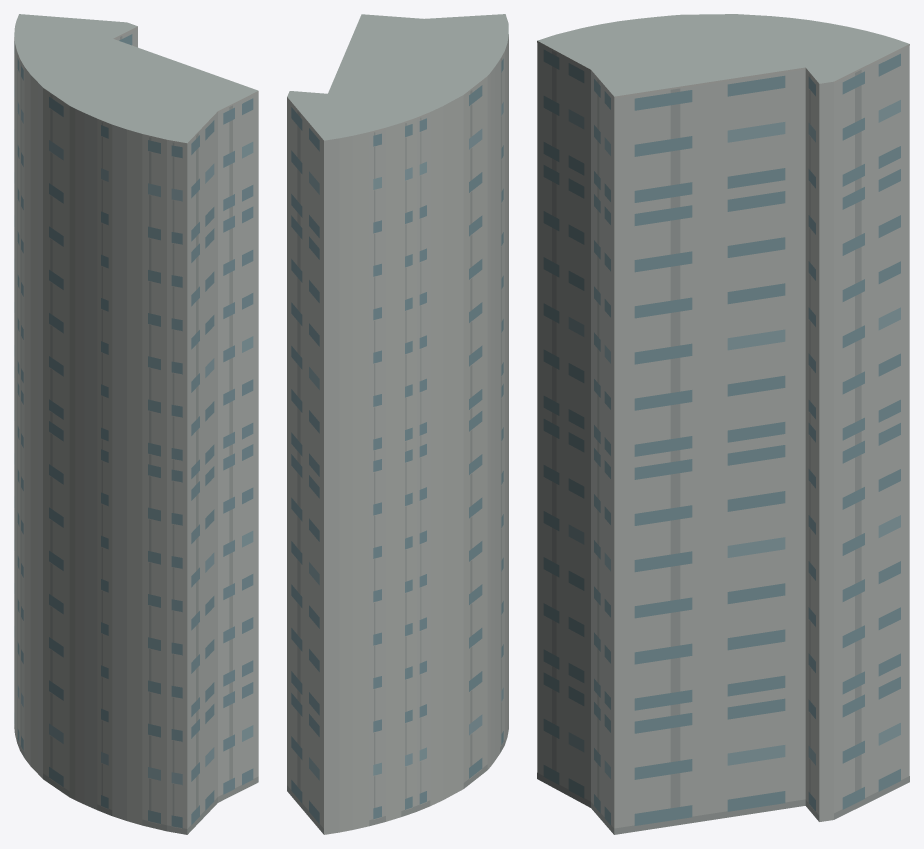
File: survey-upis-32994522.glb
3 renders of one model, left to right at view 1: azimuth 30°, elevation 25°; view 2: azimuth 150°, elevation 25°; view 3: azimuth 270°, elevation 25°, orthographic. The views are drawn at different scales.
Visible parts, largest first — view 1: survey-upis-32994522.tmp; view 2: survey-upis-32994522.tmp; view 3: survey-upis-32994522.tmp.
Boxes of the visible parts, x1,y1,x2,y2 form: survey-upis-32994522.tmp: [14, 14, 258, 834]; survey-upis-32994522.tmp: [287, 14, 508, 834]; survey-upis-32994522.tmp: [537, 14, 909, 834].
Bounding box in the file's own units: 23.43 × 97.6 × 44.65.
